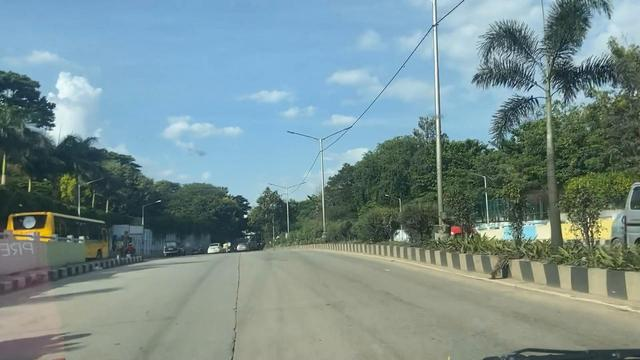RoadDamages: (229, 250, 244, 360)
